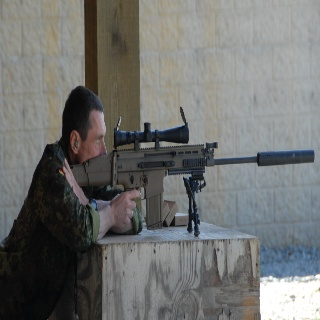rifle: (66, 106, 316, 238)
